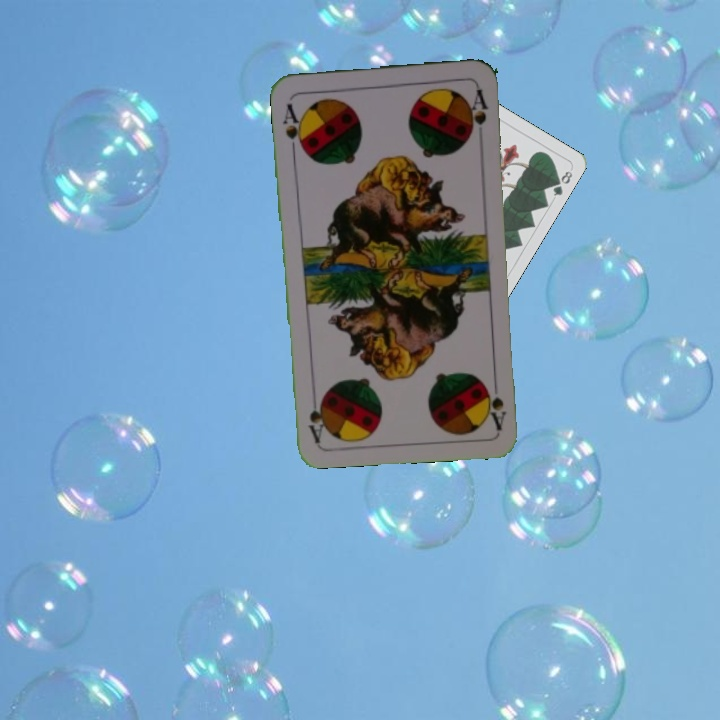SA: (479, 373, 508, 432), (278, 99, 307, 153)
